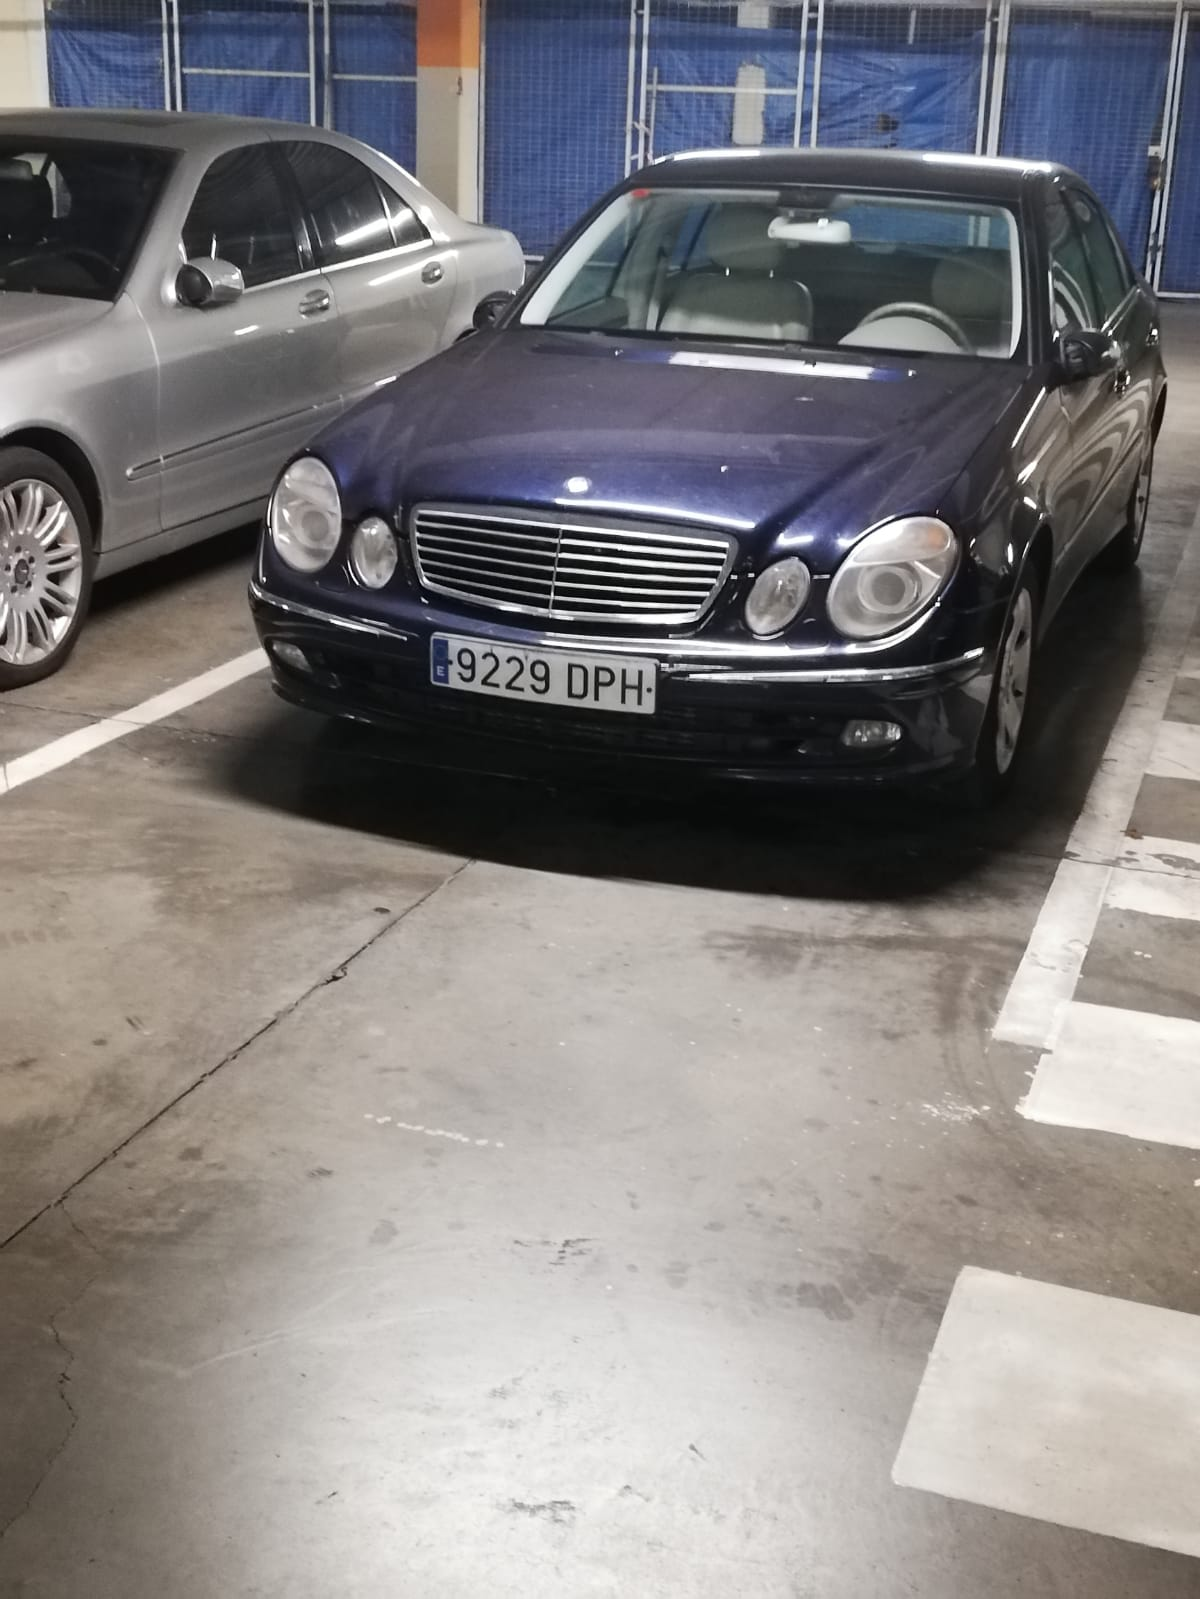Car: (256, 128, 1163, 819)
Plate: (435, 625, 664, 690)
